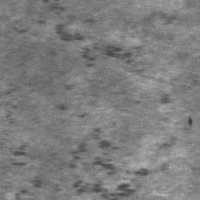rolled-in_scale: (42, 0, 159, 79), (31, 122, 134, 200), (133, 132, 197, 196)
